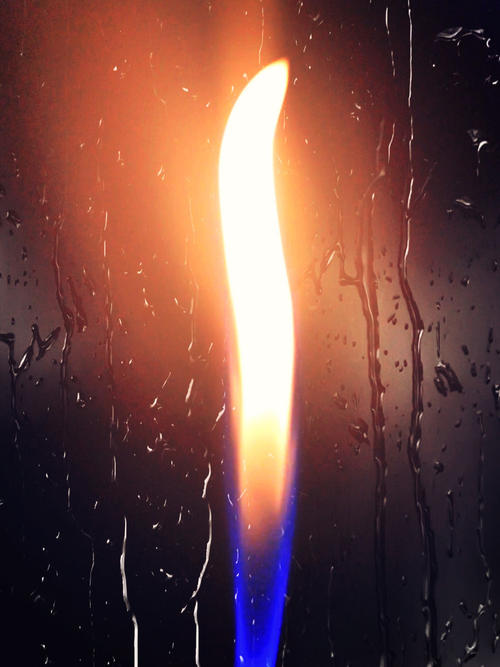fire: (200, 38, 317, 661)
